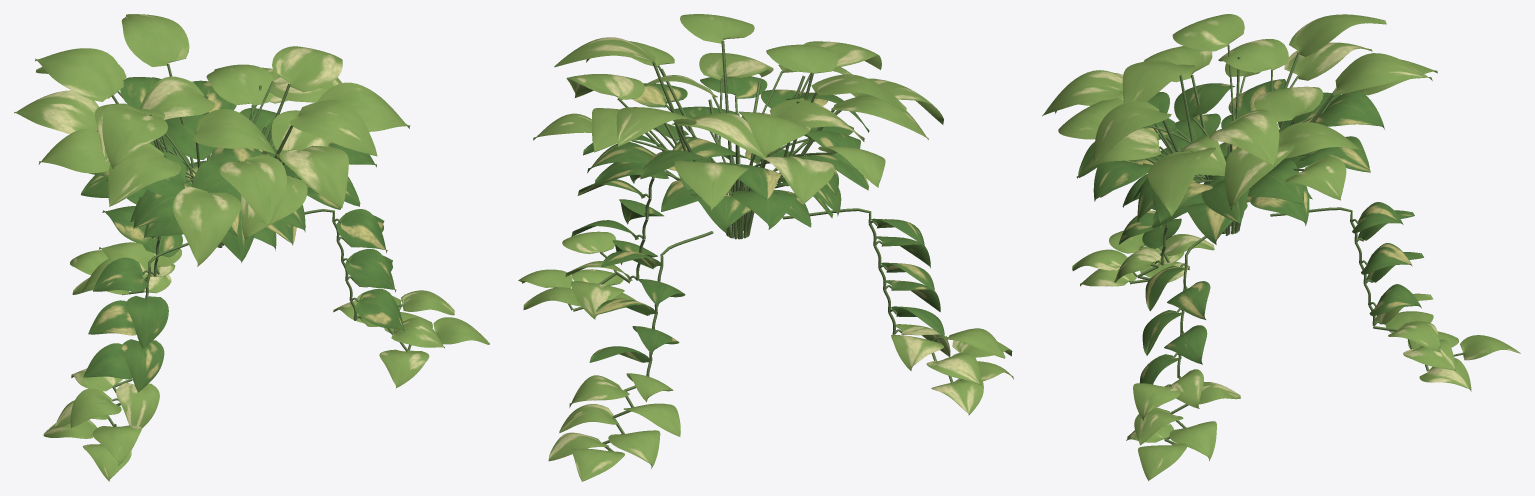
Rendered from pothos-stage-7.glb.
3 renders of one model, left to right at view 1: azimuth 30°, elevation 25°; view 2: azimuth 150°, elevation 25°; view 3: azimuth 270°, elevation 25°, orthographic. The views are drawn at different scales.
Parts seen in each view (by area): view 1: Leaf_50, Leaf_65, Leaf_58, Leaf_61, Leaf_62, Leaf_48, Leaf_60, PlantBranches, Leaf_55, Leaf_52, Leaf_64, Leaf_63 (+40 smaller); view 2: PlantBranches, Leaf_49, Leaf_52, Leaf_65, Leaf_62, Leaf_63, Leaf_61, Leaf_54, Leaf_59, Leaf_57, Leaf_60, Leaf_48 (+48 smaller); view 3: PlantBranches, Leaf_64, Leaf_56, Leaf_62, Leaf_61, Leaf_63, Leaf_59, Leaf_58, Leaf_60, Leaf_65, Leaf_54, Leaf_51 (+44 smaller).
Boxes of the visible parts, <box> form: Leaf_50: <box>172,186,241,266</box>; Leaf_65: <box>35,48,123,101</box>; Leaf_58: <box>219,154,286,226</box>; Leaf_61: <box>289,99,377,156</box>; Leaf_62: <box>121,14,189,66</box>; Leaf_48: <box>279,145,348,208</box>; Leaf_60: <box>102,104,167,169</box>; PlantBranches: <box>97,63,411,426</box>; Leaf_55: <box>108,143,180,206</box>; Leaf_52: <box>14,90,98,133</box>; Leaf_64: <box>272,46,342,92</box>; Leaf_63: <box>192,109,278,158</box>; PlantBranches: <box>568,41,962,451</box>; Leaf_49: <box>674,160,748,210</box>; Leaf_52: <box>760,157,834,204</box>; Leaf_65: <box>738,111,810,158</box>; Leaf_62: <box>616,107,696,146</box>; Leaf_63: <box>766,44,837,73</box>; Leaf_61: <box>680,14,754,43</box>; Leaf_54: <box>672,113,764,157</box>; Leaf_59: <box>566,74,644,99</box>; Leaf_57: <box>769,99,864,141</box>; Leaf_60: <box>811,74,906,112</box>; Leaf_48: <box>699,53,773,80</box>; PlantBranches: <box>1130,44,1463,443</box>; Leaf_64: <box>1209,109,1279,165</box>; Leaf_56: <box>1147,147,1215,216</box>; Leaf_62: <box>1333,53,1432,95</box>; Leaf_61: <box>1093,101,1171,163</box>; Leaf_63: <box>1122,60,1195,103</box>; Leaf_59: <box>1225,143,1295,210</box>; Leaf_58: <box>1042,70,1122,116</box>; Leaf_60: <box>1172,14,1244,51</box>; Leaf_65: <box>1289,14,1386,56</box>; Leaf_54: <box>1254,86,1323,121</box>; Leaf_51: <box>1278,122,1363,158</box>.
Bounding box in the file's own units: 4.25 × 2.93 × 4.01.
3 materials, 2 textured.
